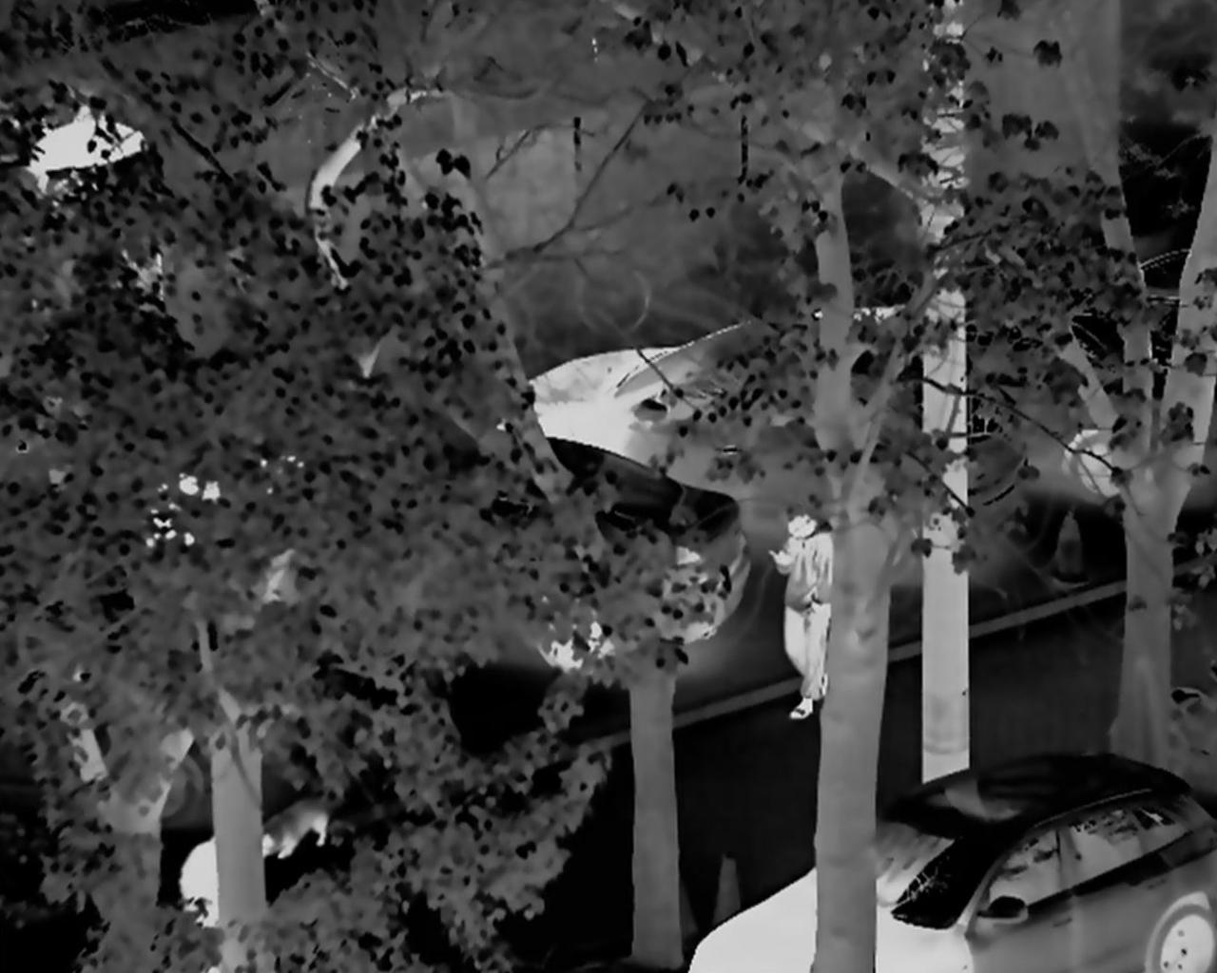person: (764, 499, 848, 738)
